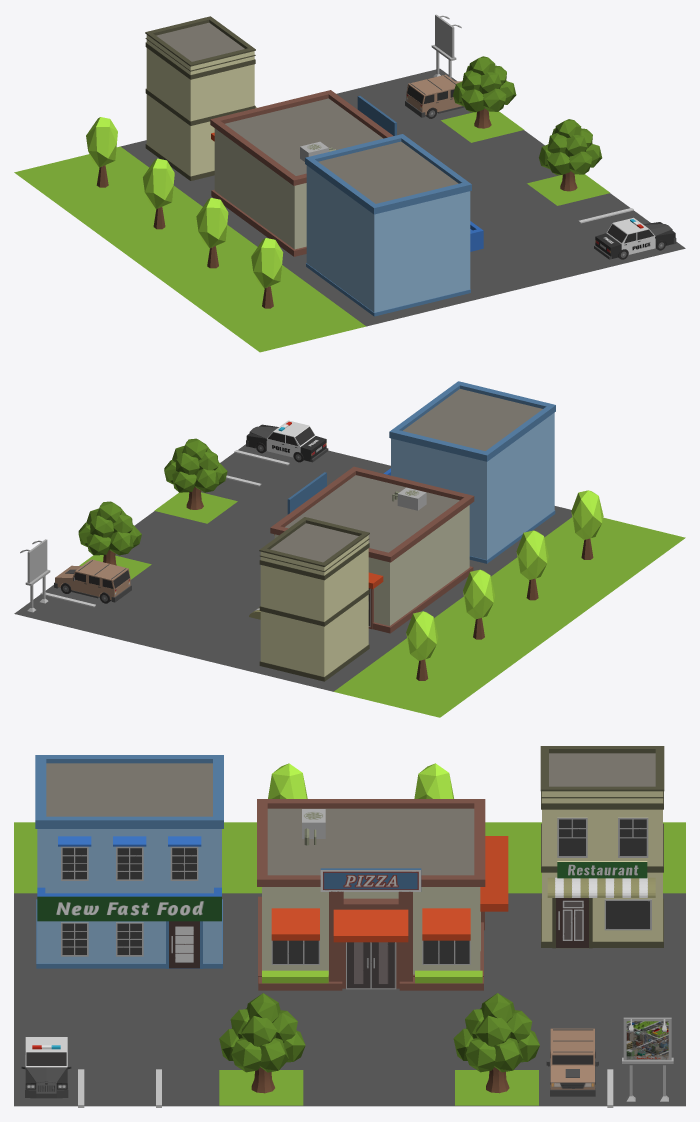
Rendered from fastfood.gltf.
3 views of the same model, one above another, from view 1: azimuth 30°, elevation 25°; view 2: azimuth 150°, elevation 25°; view 3: azimuth 270°, elevation 25° (orthographic). The views are drawn at different scales.
Parts seen in each view (by area): view 1: Road Tile_Plane.003, Building_Fast Food_Cube.006, Natures_Grass Tile_Plane.010, Building_Pizza_Cube.012, Building_Restaurant_Cube.014, Natures_Bush_01_Cylinder (×4), Natures_Big Tree_Mesh.008 (×2), Natures_Grass Tile Small_Plane.010 (×2), Vehicle_Police Car_Cube.036, Vehicle_SUV_Cube.096, Props_BillBoard_medium_Cube.543; view 2: Road Tile_Plane.003, Natures_Grass Tile_Plane.010, Building_Fast Food_Cube.006, Building_Pizza_Cube.012, Building_Restaurant_Cube.014, Natures_Bush_01_Cylinder (×4), Natures_Big Tree_Mesh.008 (×2), Vehicle_SUV_Cube.096, Vehicle_Police Car_Cube.036, Natures_Grass Tile Small_Plane.010 (×2), Props_BillBoard_medium_Cube.543, Props_Roof prop air_Cylinder.034; view 3: Road Tile_Plane.003, Building_Pizza_Cube.012, Building_Fast Food_Cube.006, Building_Restaurant_Cube.014, Natures_Big Tree_Mesh.008 (×2), Natures_Grass Tile_Plane.010, Natures_Grass Tile Small_Plane.010 (×2), Vehicle_SUV_Cube.096, Vehicle_Police Car_Cube.036, Props_BillBoard_medium_Cube.543, Natures_Bush_01_Cylinder (×2), Props_Roof prop air_Cylinder.034.
Part boxes in pixels (x1,y1,x2,y2): Road Tile_Plane.003: (121, 68, 685, 326); Building_Fast Food_Cube.006: (305, 134, 483, 316); Natures_Grass Tile_Plane.010: (14, 146, 365, 352); Building_Pizza_Cube.012: (210, 90, 396, 256); Building_Restaurant_Cube.014: (145, 16, 256, 180); Natures_Bush_01_Cylinder (×4): (86, 117, 283, 308); Natures_Big Tree_Mesh.008 (×2): (453, 56, 602, 191); Natures_Grass Tile Small_Plane.010 (×2): (441, 111, 609, 205); Vehicle_Police Car_Cube.036: (594, 217, 676, 259); Vehicle_SUV_Cube.096: (405, 74, 464, 118); Props_BillBoard_medium_Cube.543: (431, 14, 461, 78); Road Tile_Plane.003: (14, 444, 572, 691); Natures_Grass Tile_Plane.010: (334, 517, 685, 717); Building_Fast Food_Cube.006: (383, 381, 555, 563); Building_Pizza_Cube.012: (270, 466, 474, 633); Building_Restaurant_Cube.014: (249, 517, 369, 681); Natures_Bush_01_Cylinder (×4): (406, 490, 603, 680); Natures_Big Tree_Mesh.008 (×2): (78, 438, 227, 565); Vehicle_SUV_Cube.096: (54, 559, 131, 603); Vehicle_Police Car_Cube.036: (246, 420, 328, 462); Natures_Grass Tile Small_Plane.010 (×2): (79, 492, 237, 579); Props_BillBoard_medium_Cube.543: (20, 539, 50, 612); Props_Roof prop air_Cylinder.034: (392, 487, 426, 510); Road Tile_Plane.003: (14, 893, 685, 1106); Building_Pizza_Cube.012: (257, 799, 508, 990); Building_Fast Food_Cube.006: (35, 755, 223, 968); Building_Restaurant_Cube.014: (540, 746, 664, 948); Natures_Big Tree_Mesh.008 (×2): (219, 993, 539, 1093); Natures_Grass Tile_Plane.010: (14, 822, 685, 893); Natures_Grass Tile Small_Plane.010 (×2): (219, 1070, 538, 1105); Vehicle_SUV_Cube.096: (546, 1028, 598, 1096); Vehicle_Police Car_Cube.036: (21, 1037, 71, 1098); Props_BillBoard_medium_Cube.543: (622, 1017, 673, 1101); Natures_Bush_01_Cylinder (×2): (268, 763, 453, 798); Props_Roof prop air_Cylinder.034: (302, 809, 325, 845).
Bounding box in the file's own units: 40.15 × 10.51 × 40.
13 materials, 13 textured.
